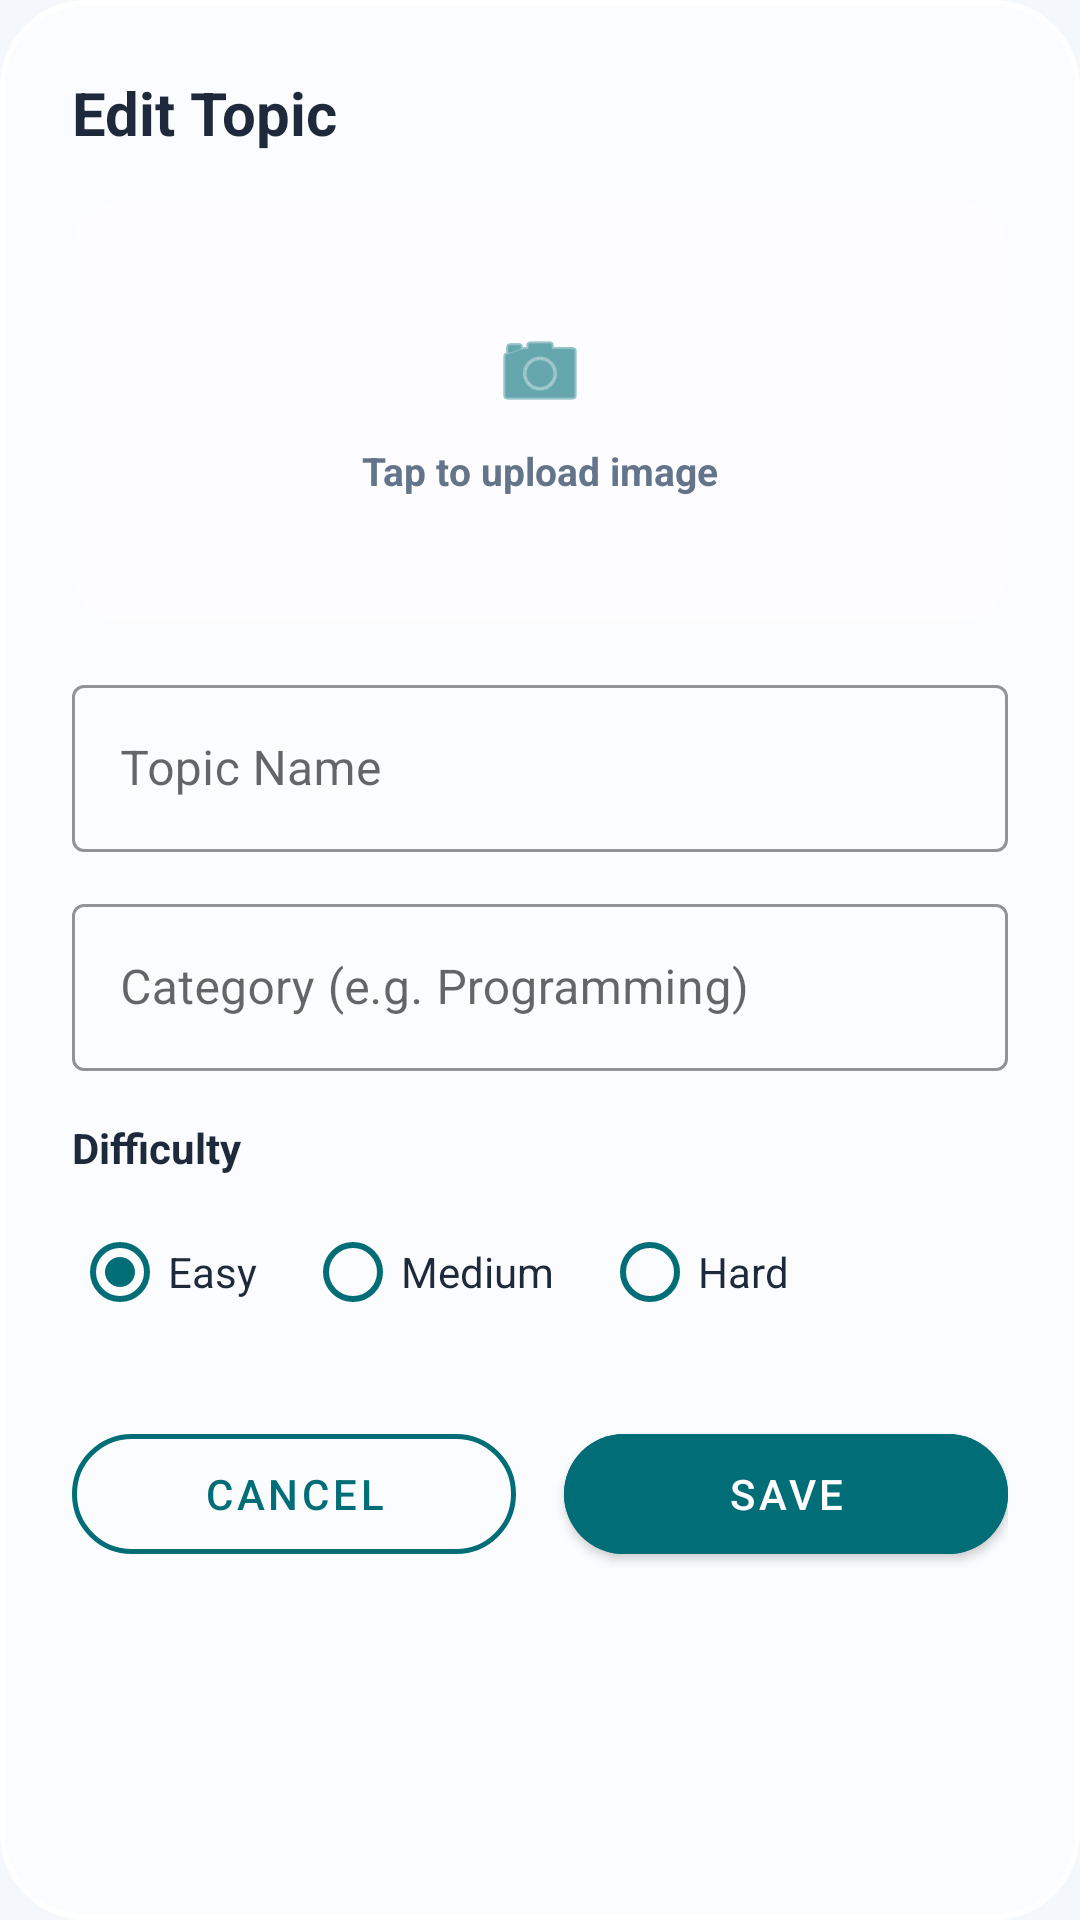

Named icons in this screenshot (1080*1920) and their centers, (x=x, y=y):
camera: (x=540, y=370)
